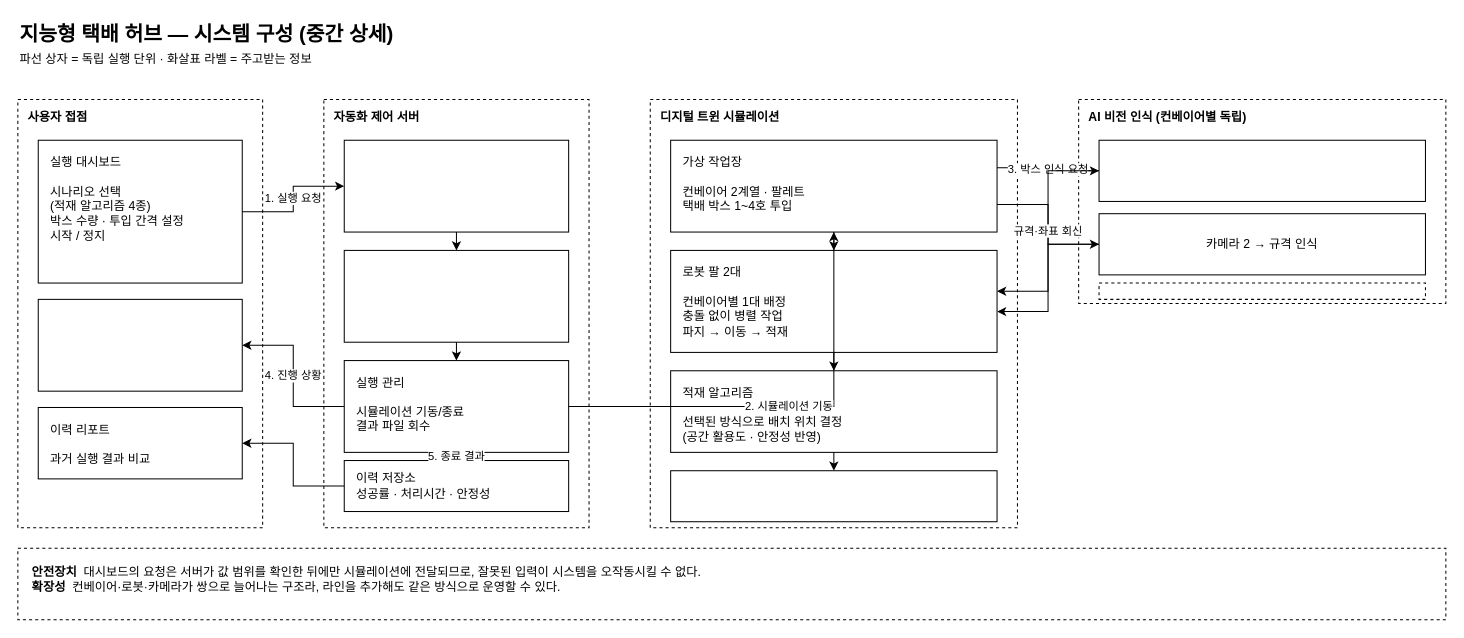
The diagram is 1464 pixels wide and 638 high, and some of its shapes have lost their labels. The shapes that lost their labels are listed below. From the top down, each one's centre as x and y in pixels, then its label:
the point at 456,185: 웹 서버 대시보드 제공 요청·상태 중계
the point at 1261,170: 카메라 1 → 규격 인식
the point at 456,295: 설정 검증 허용 범위·값만 통과 (임의 명령 실행 불가)
the point at 1261,290: 박스 크기·위치를 실시간 측정해 두 로봇에 각각 전달
the point at 139,344: 실시간 모니터링 진행 로그 · 처리 속도 카메라 화면 (컨베이어별)
the point at 833,496: 안정성 검증 쓰러짐·이탈 여부를 매 적재마다 확인 — 기준 미달 시 즉시 중단
